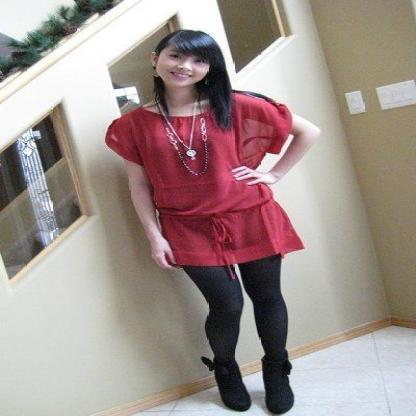dress: (105, 83, 304, 267)
shoe: (201, 358, 293, 415)
